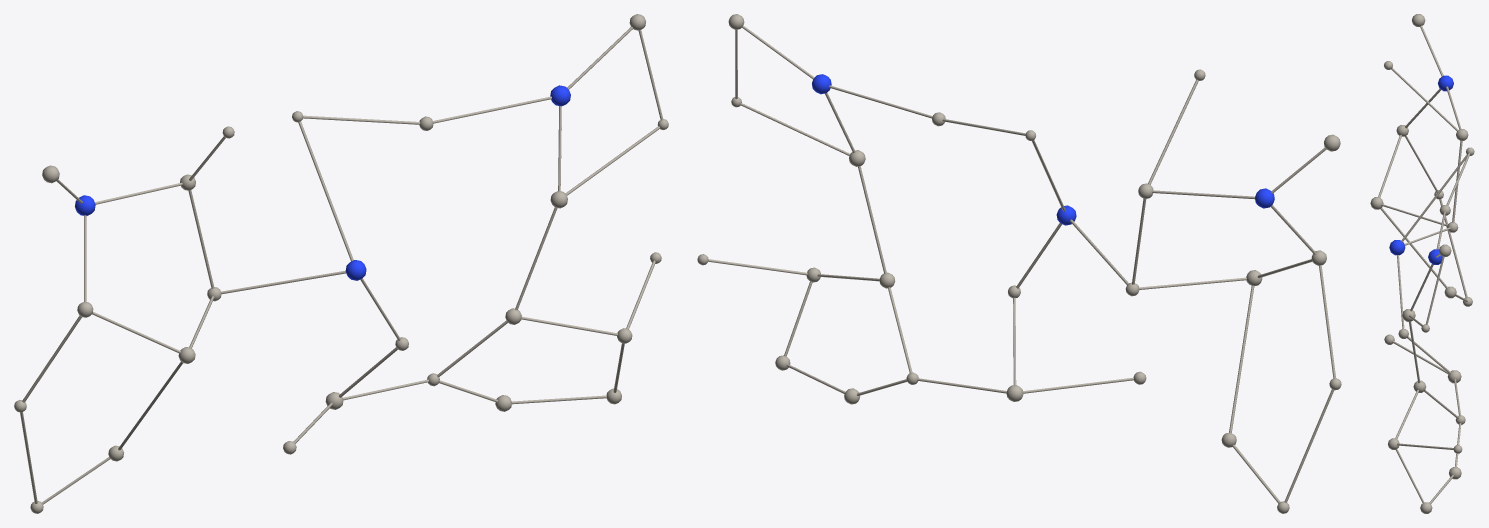
The model's file is bg_node_field.glb.
3 renders of one model, left to right at view 1: azimuth 30°, elevation 25°; view 2: azimuth 150°, elevation 25°; view 3: azimuth 270°, elevation 25°, orthographic. The views are drawn at different scales.
Parts seen in each view (by area): view 1: bg_node_field; view 2: bg_node_field; view 3: bg_node_field.
Boxes of the visible parts, left/top/right/bottom form: bg_node_field: left=14, top=14, right=668, bottom=513; bg_node_field: left=697, top=14, right=1341, bottom=513; bg_node_field: left=1370, top=14, right=1474, bottom=513.
Bounding box in the file's own units: 2.98 × 1.71 × 0.5389.
